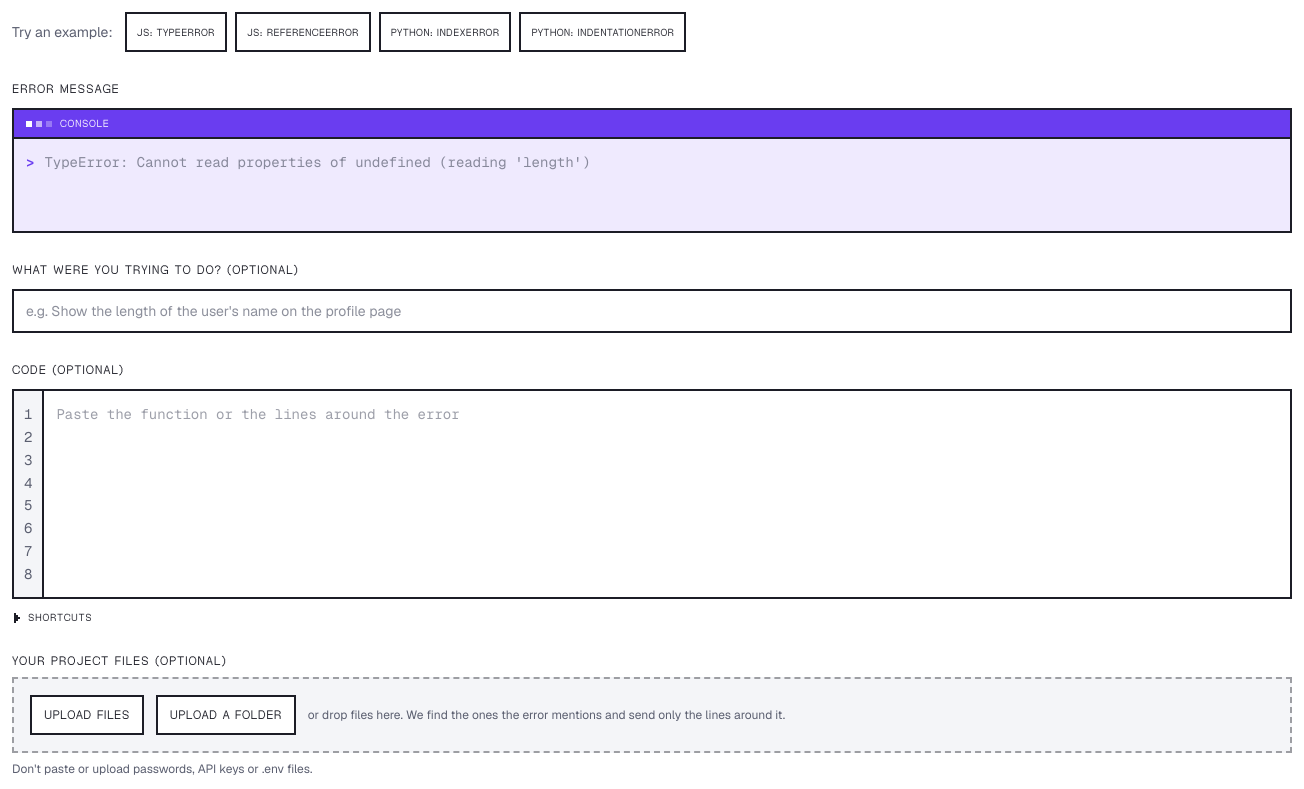
Test: fills both fields when an example is picked
The image size is (1304, 789).
Click the button "Python: IndexError": (445, 32) [379, 12, 511, 52]
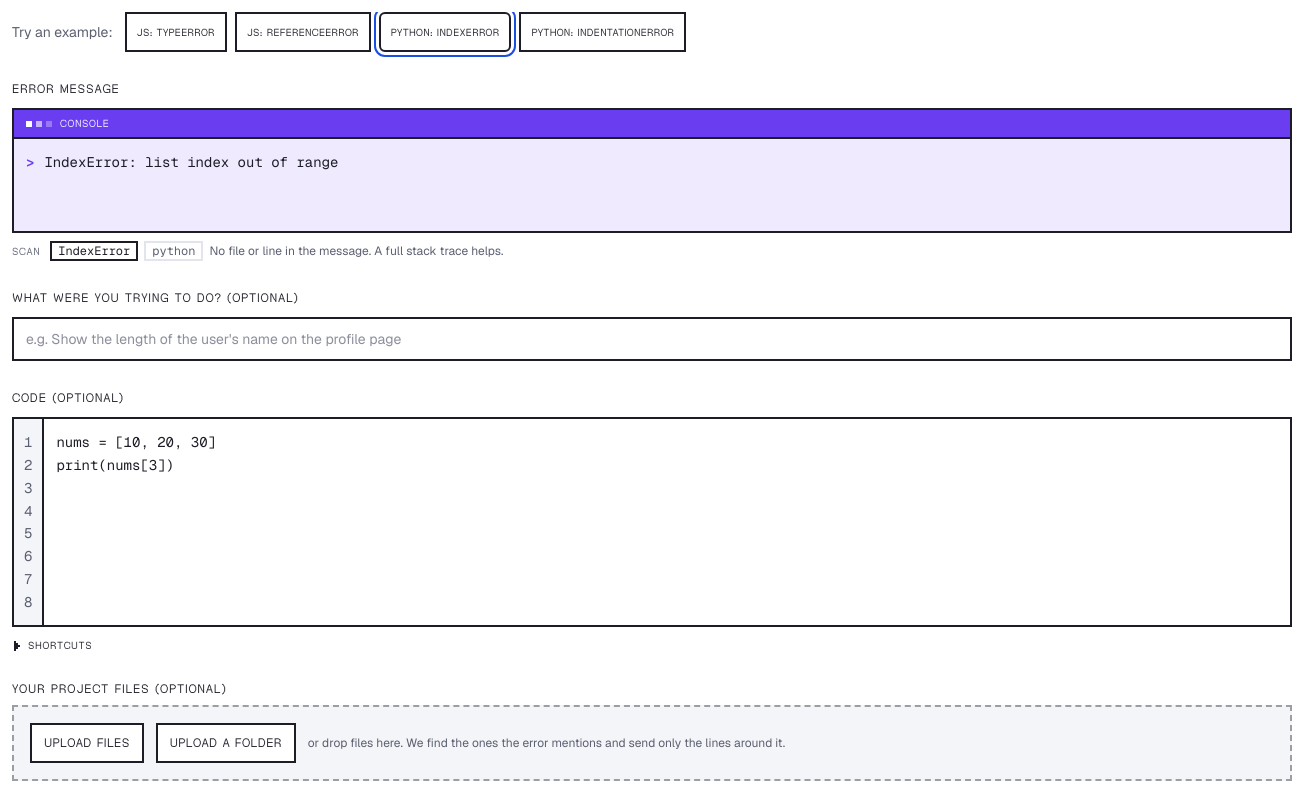
Expected: the text box labelled "Error message" holds "IndexError: list index out of range", [44, 151, 1278, 219]
